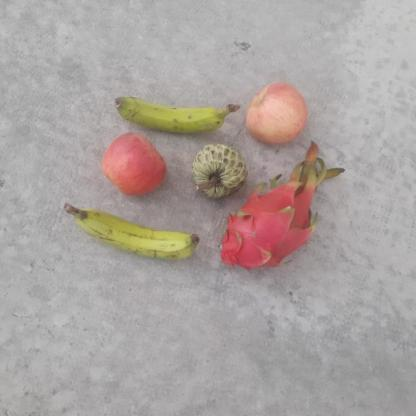annona: (191, 140, 248, 196)
apple: (100, 131, 168, 197), (248, 83, 310, 144)
banana: (82, 205, 200, 267), (110, 90, 233, 134)
pitaya: (217, 187, 318, 269)
